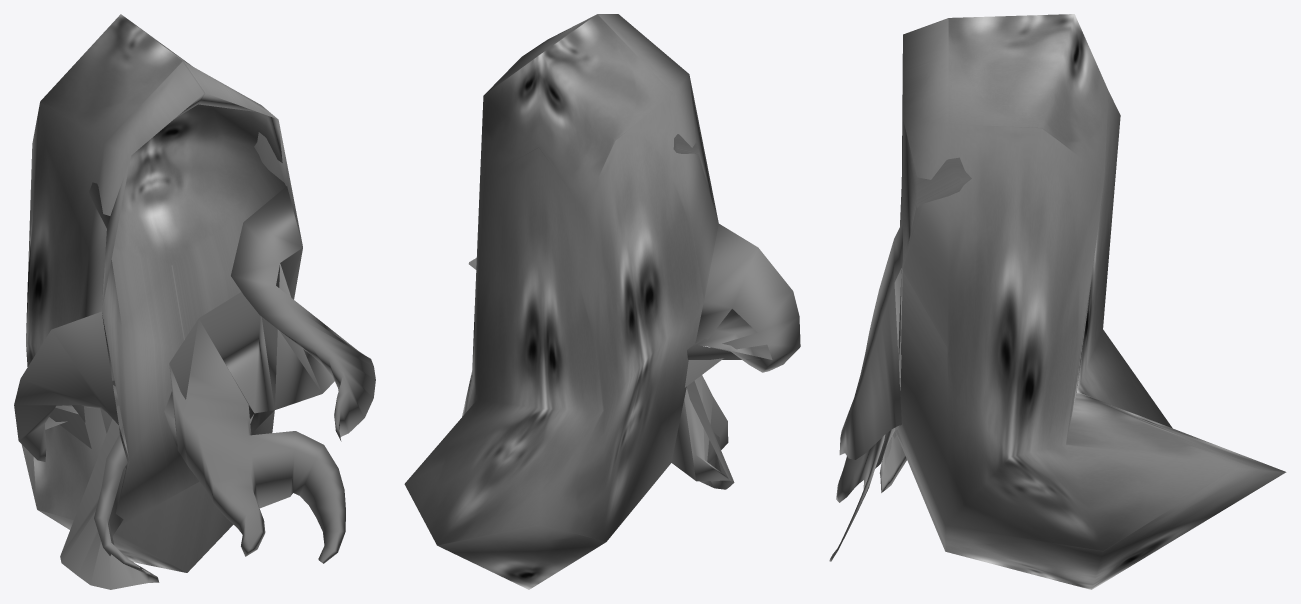
File: obake.fbx
The picture shows the model from 3 angles, left to right: view 1: azimuth 30°, elevation 25°; view 2: azimuth 150°, elevation 25°; view 3: azimuth 270°, elevation 25°; orthographic projection. The views are drawn at different scales.
Visible parts, largest first — view 1: Box001; view 2: Box001; view 3: Box001.
Boxes of the visible parts, bbox=[...] form: Box001: bbox=[14, 14, 375, 589]; Box001: bbox=[404, 14, 800, 589]; Box001: bbox=[829, 14, 1286, 589].
Bounding box in the file's own units: 147 × 160 × 221.
